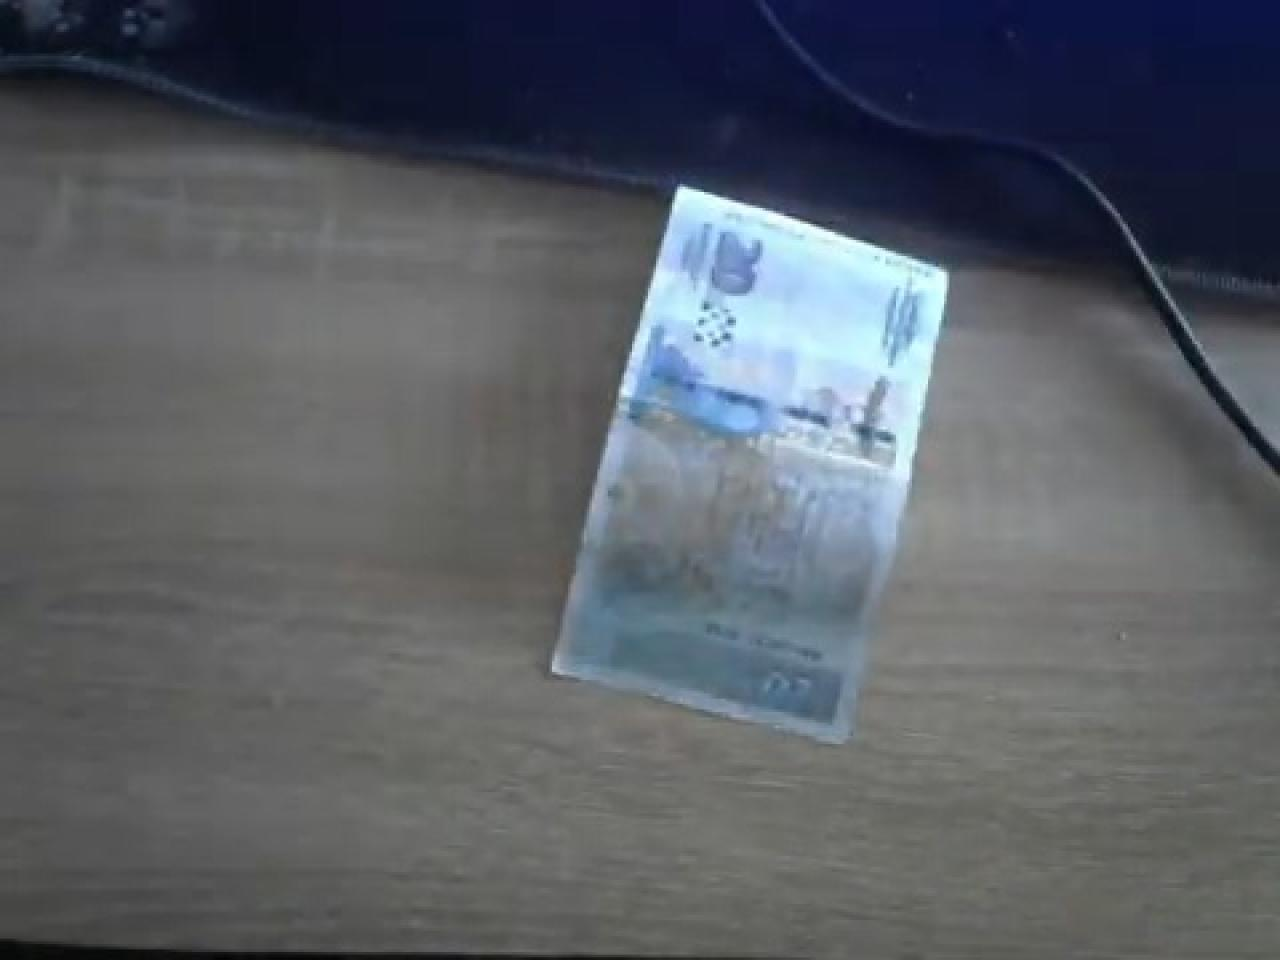20leva: (544, 189, 952, 747)
